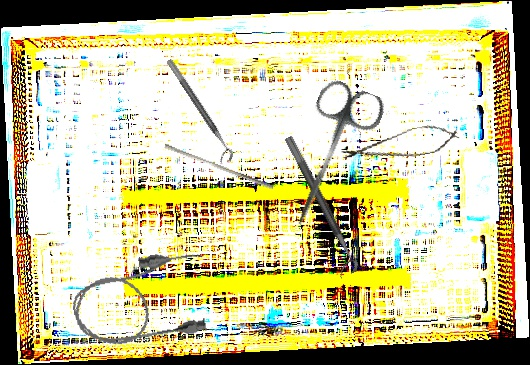Cannula: (66, 245, 216, 356)
Fixation Ring: (273, 135, 361, 279), (157, 57, 238, 168)
Iris Scissors: (271, 76, 389, 238)
Micro Scissor: (339, 119, 462, 171)
Pusher: (162, 143, 276, 190)
